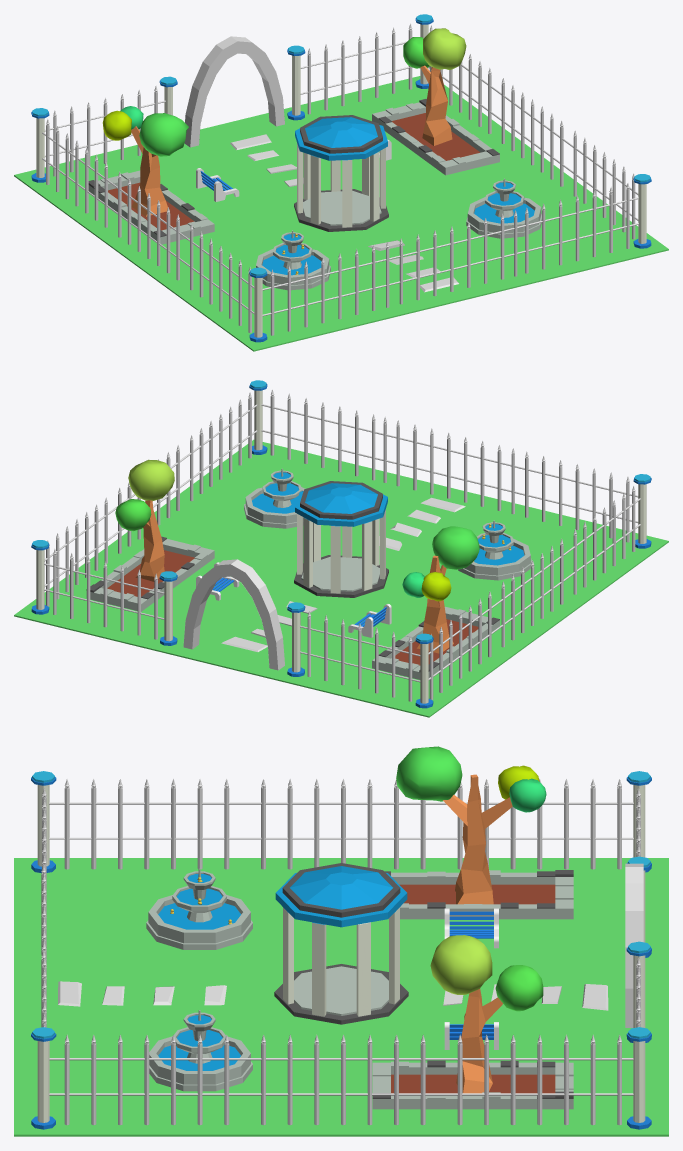
Rendered from park_mini.fbx.
3 views of the same model, one above another, from view 1: azimuth 30°, elevation 25°; view 2: azimuth 150°, elevation 25°; view 3: azimuth 270°, elevation 25° (orthographic). The views are drawn at different scales.
Parts seen in each view (by area): view 1: grass, Fence, rest_place, tree, wood_box, arch, fountain, fountainandduck, stone_step, bench_blue; view 2: grass, Fence, rest_place, tree, wood_box, arch, fountainandduck, fountain, stone_step, bench_blue; view 3: grass, Fence, tree, rest_place, wood_box, arch, fountainandduck, fountain, stone_step, bench_blue, park_door.006.
Boxes of the visible parts, <box> form: grass: <box>14,76,668,351</box>; Fence: <box>42,23,638,335</box>; rest_place: <box>294,115,388,231</box>; tree: <box>102,28,466,216</box>; wood_box: <box>88,99,499,244</box>; arch: <box>31,14,651,342</box>; fountain: <box>466,178,541,238</box>; fountainandduck: <box>255,230,330,290</box>; stone_step: <box>230,134,458,292</box>; bench_blue: <box>196,139,391,201</box>; grass: <box>14,439,668,717</box>; Fence: <box>44,389,640,701</box>; rest_place: <box>294,481,388,597</box>; tree: <box>115,459,479,653</box>; wood_box: <box>86,536,499,679</box>; arch: <box>31,380,651,708</box>; fountainandduck: <box>458,520,531,580</box>; fountain: <box>244,468,305,528</box>; stone_step: <box>221,497,465,651</box>; bench_blue: <box>196,562,391,637</box>; grass: <box>14,858,668,1136</box>; Fence: <box>41,779,640,1125</box>; tree: <box>396,746,546,1093</box>; rest_place: <box>274,863,408,1024</box>; wood_box: <box>372,870,573,1109</box>; arch: <box>31,771,651,1129</box>; fountainandduck: <box>146,868,252,949</box>; fountain: <box>149,1010,252,1091</box>; stone_step: <box>58,981,608,1010</box>; bench_blue: <box>444,908,498,1049</box>; park_door.006: <box>625,911,643,947</box>.
Size of the model in its own units: 791 by 209 by 791.
